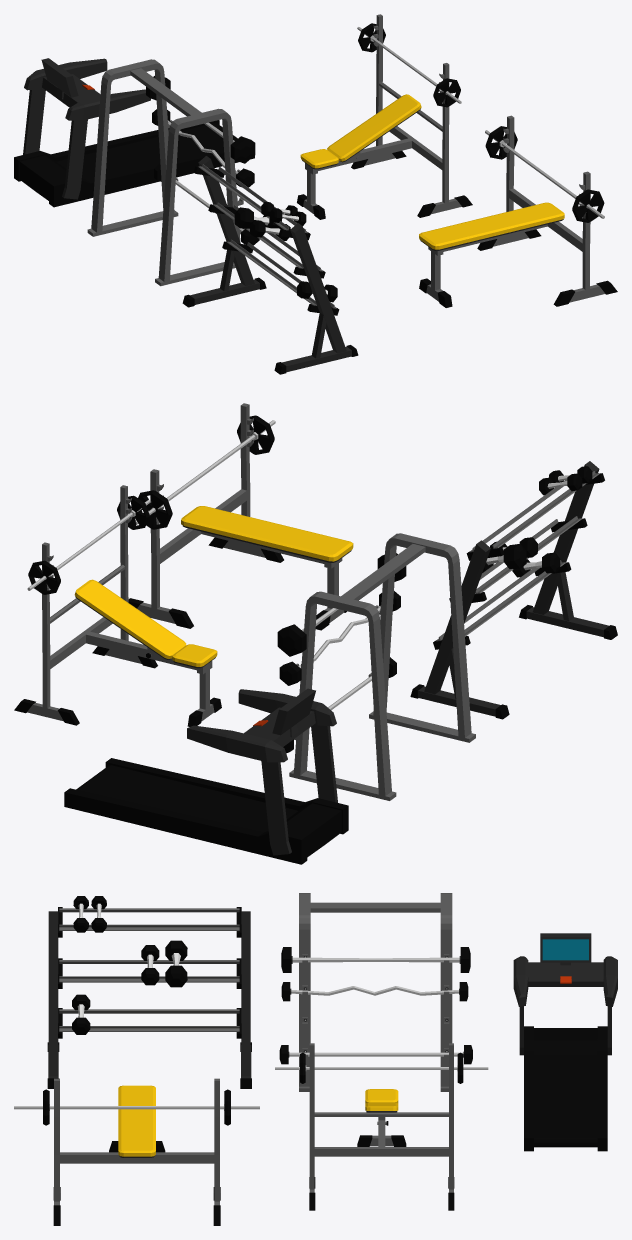
The model's file is Gym.glb.
The picture shows the model from 3 angles, top to bottom: view 1: azimuth 30°, elevation 25°; view 2: azimuth 150°, elevation 25°; view 3: azimuth 270°, elevation 25°; orthographic projection. The views are drawn at different scales.
Parts seen in each view (by area): view 1: Object_6, Object_24, Object_22, Object_4, Object_8; view 2: Object_6, Object_24, Object_22, Object_8, Object_4; view 3: Object_6, Object_22, Object_24, Object_4, Object_8.
Part boxes in pixels (x1=…): Object_6: x1=14, y1=58, x2=254, y2=207; Object_24: x1=87, y1=59, x2=259, y2=286; Object_22: x1=182, y1=156, x2=358, y2=374; Object_4: x1=419, y1=115, x2=617, y2=307; Object_8: x1=297, y1=14, x2=472, y2=219; Object_6: x1=64, y1=688, x2=348, y2=864; Object_24: x1=277, y1=533, x2=475, y2=800; Object_22: x1=410, y1=461, x2=617, y2=719; Object_8: x1=14, y1=485, x2=221, y2=726; Object_4: x1=128, y1=403, x2=353, y2=630; Object_6: x1=513, y1=933, x2=617, y2=1151; Object_22: x1=47, y1=896, x2=251, y2=1088; Object_24: x1=279, y1=893, x2=472, y2=1091; Object_4: x1=14, y1=1078, x2=259, y2=1225; Object_8: x1=275, y1=1043, x2=488, y2=1210.
Size of the model in its own units: 10.04 by 4.53 by 14.7.
Materials: 1 (1 with a texture image).
